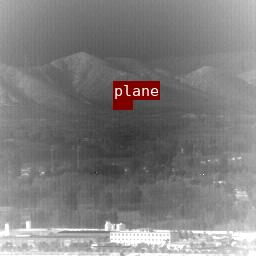plane: (113, 100, 132, 109)
